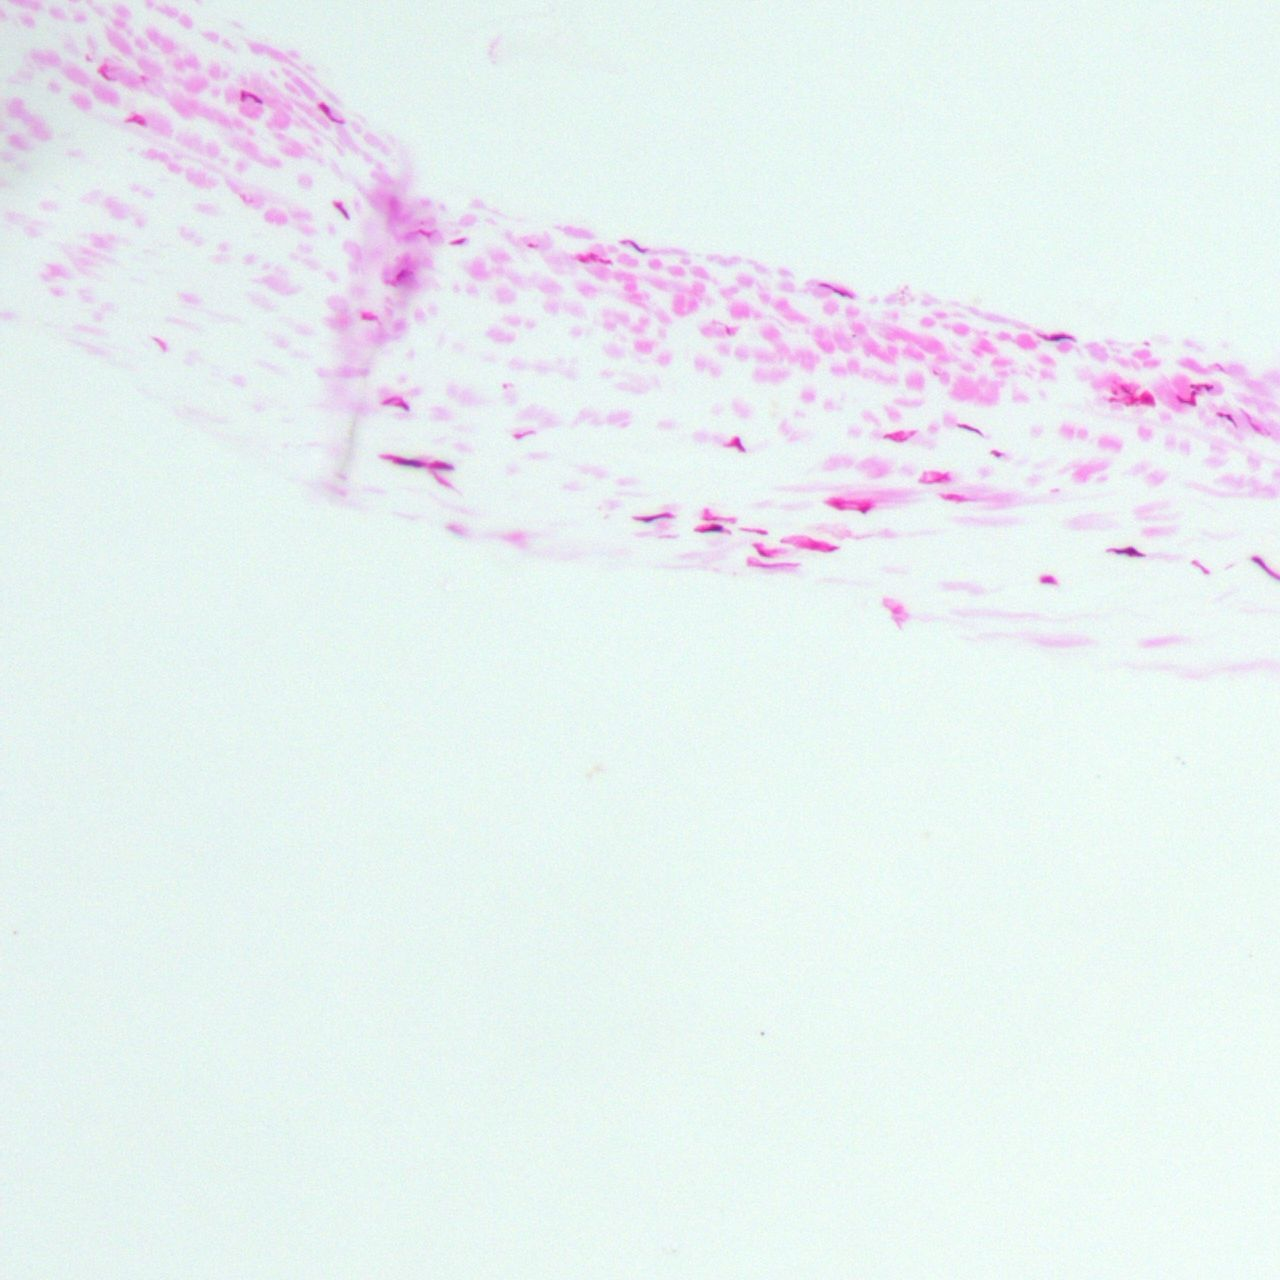dust: (759, 1031, 765, 1035)
nucleus-FG: (315, 100, 344, 127), (381, 451, 424, 469), (818, 281, 855, 300), (619, 236, 649, 255), (237, 88, 265, 108), (1106, 544, 1144, 558), (431, 470, 455, 492), (632, 511, 674, 523), (383, 393, 411, 410), (804, 539, 837, 551), (958, 422, 984, 437), (332, 199, 351, 219), (694, 522, 723, 534), (722, 435, 745, 450), (1190, 558, 1210, 575), (1217, 409, 1238, 425), (1037, 332, 1074, 341), (702, 512, 735, 522), (427, 459, 455, 470), (1137, 390, 1156, 405), (940, 493, 970, 502), (746, 562, 799, 567), (124, 114, 146, 126), (393, 267, 411, 281), (920, 476, 947, 485), (826, 499, 846, 511), (738, 527, 767, 535), (514, 429, 536, 439), (1189, 382, 1213, 391), (98, 65, 112, 79), (1039, 575, 1058, 585), (881, 435, 908, 442), (1176, 395, 1192, 406), (450, 237, 467, 246), (858, 505, 871, 515), (360, 312, 376, 320), (418, 229, 432, 238), (1119, 385, 1131, 395), (1190, 390, 1197, 406), (758, 548, 767, 558), (1128, 398, 1138, 406), (599, 258, 612, 264), (990, 450, 1001, 457), (1108, 397, 1119, 403), (577, 256, 588, 262), (591, 252, 598, 259), (527, 244, 535, 248), (1112, 390, 1117, 394)
